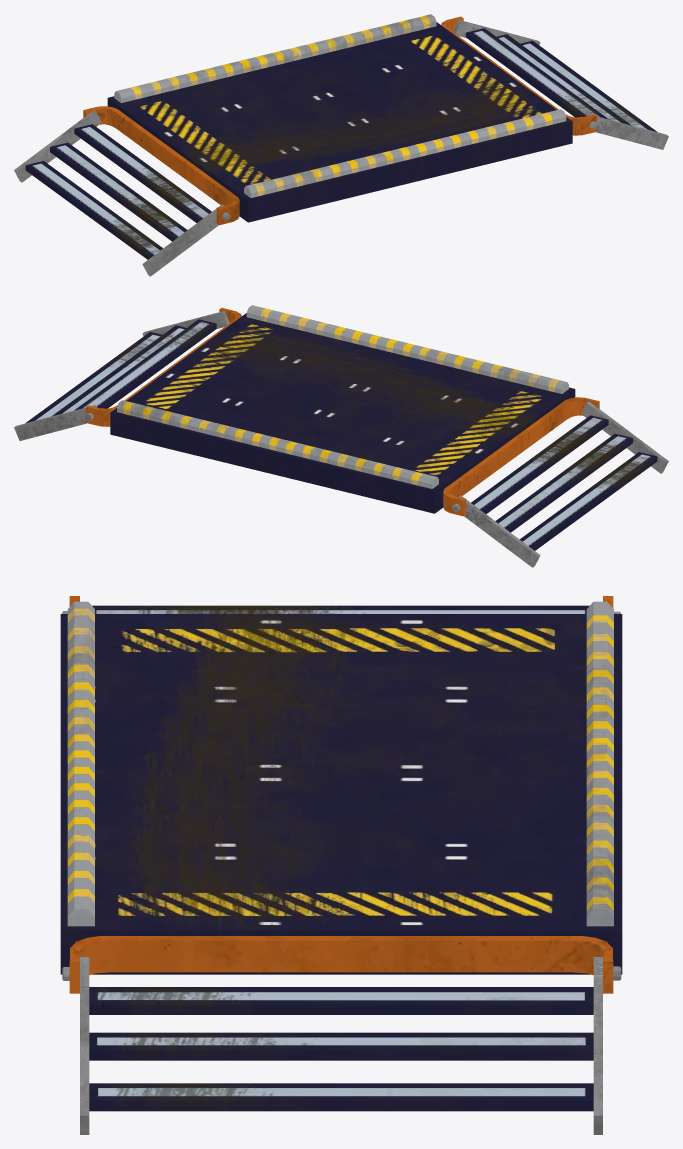
File: catwalk-bridge.glb
The picture shows the model from 3 angles, top to bottom: view 1: azimuth 30°, elevation 25°; view 2: azimuth 150°, elevation 25°; view 3: azimuth 270°, elevation 25°; orthographic projection. The views are drawn at different scales.
Visible parts, largest first — view 1: Object_2; view 2: Object_2; view 3: Object_2.
Boxes of the visible parts, x1,y1,x2,y2 form: Object_2: (14, 14, 668, 276); Object_2: (14, 305, 668, 567); Object_2: (60, 596, 622, 1134).
Bounding box in the file's own units: 6.46 × 0.7703 × 3.
1 material, 1 textured.
